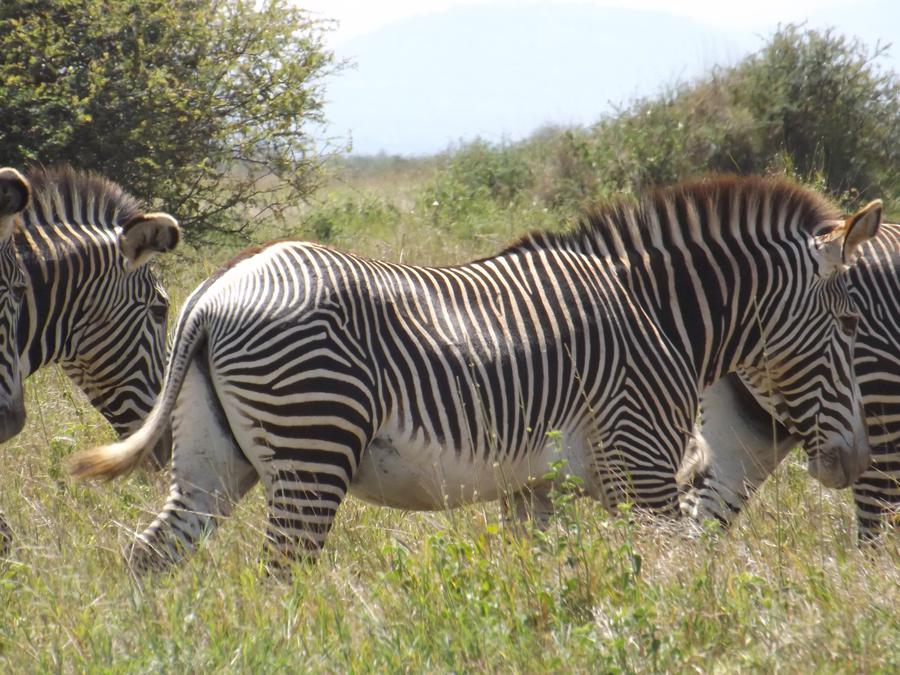zebra_grevys: (185, 241, 689, 479)
